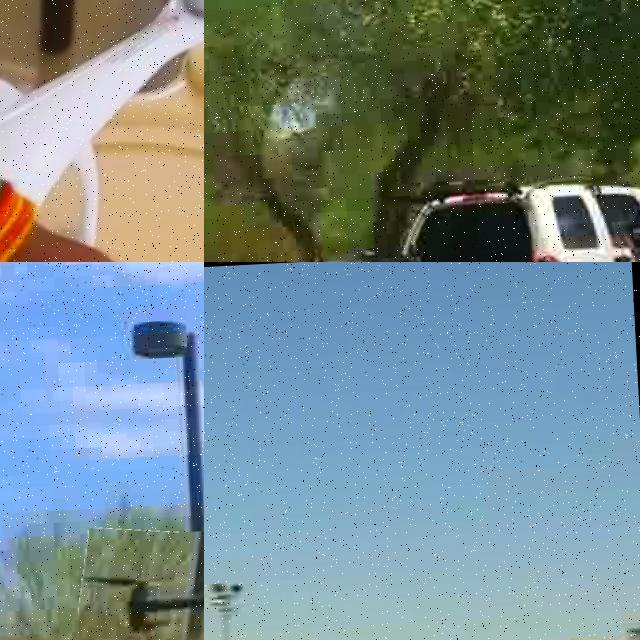0: (74, 520, 204, 640)
drone: (0, 0, 204, 262)
